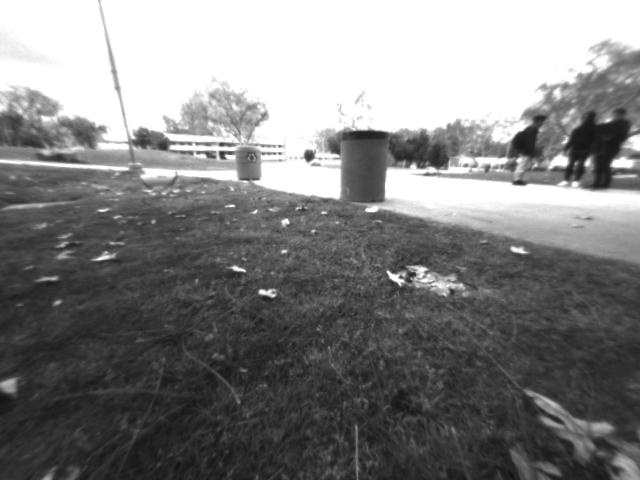trashcan: (339, 131, 387, 205), (231, 141, 264, 190)
